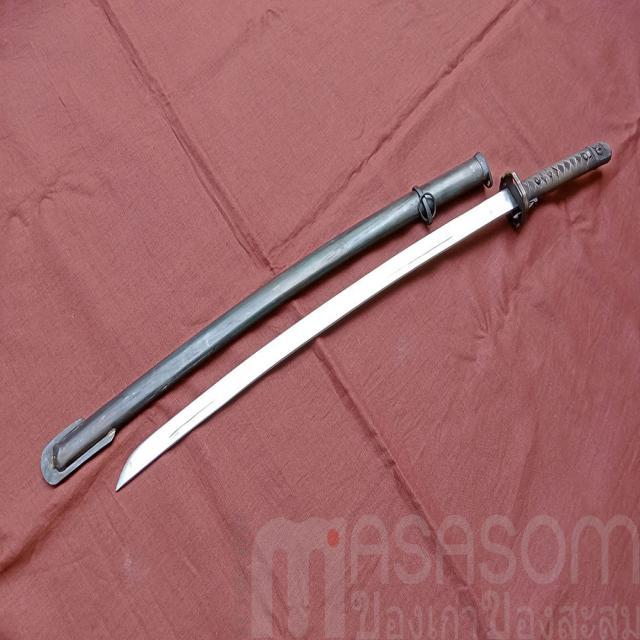long sword: (112, 142, 614, 485)
